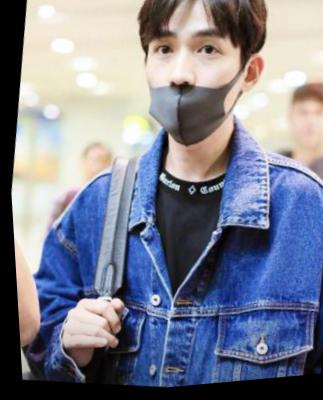NONE: (285, 105, 323, 155)
WRONG: (132, 11, 255, 154)
